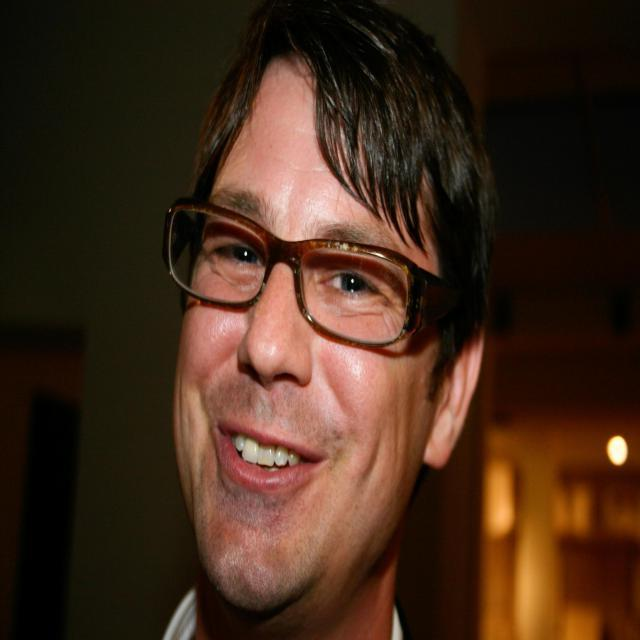open: (311, 216, 405, 320), (195, 180, 277, 284)
